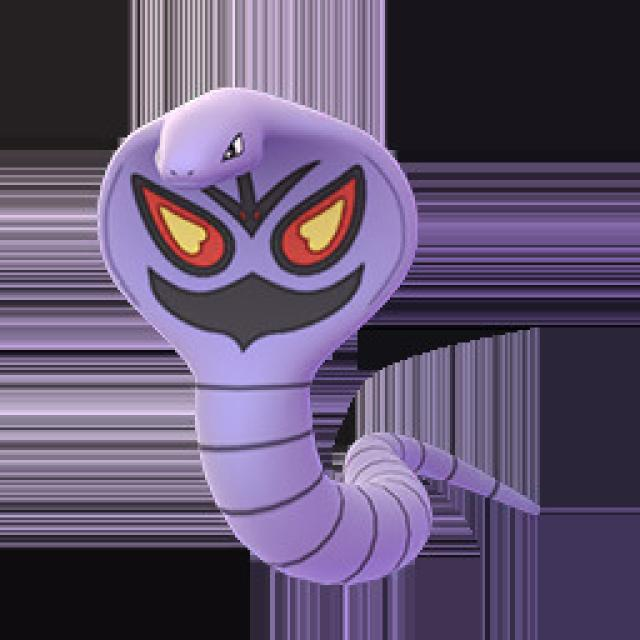Arbok: (101, 88, 424, 590)
